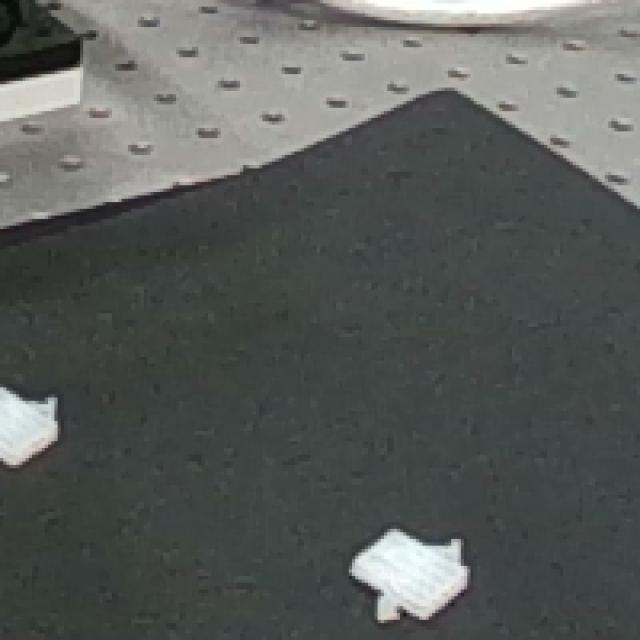pick: (336, 498, 480, 640), (0, 361, 83, 488)
